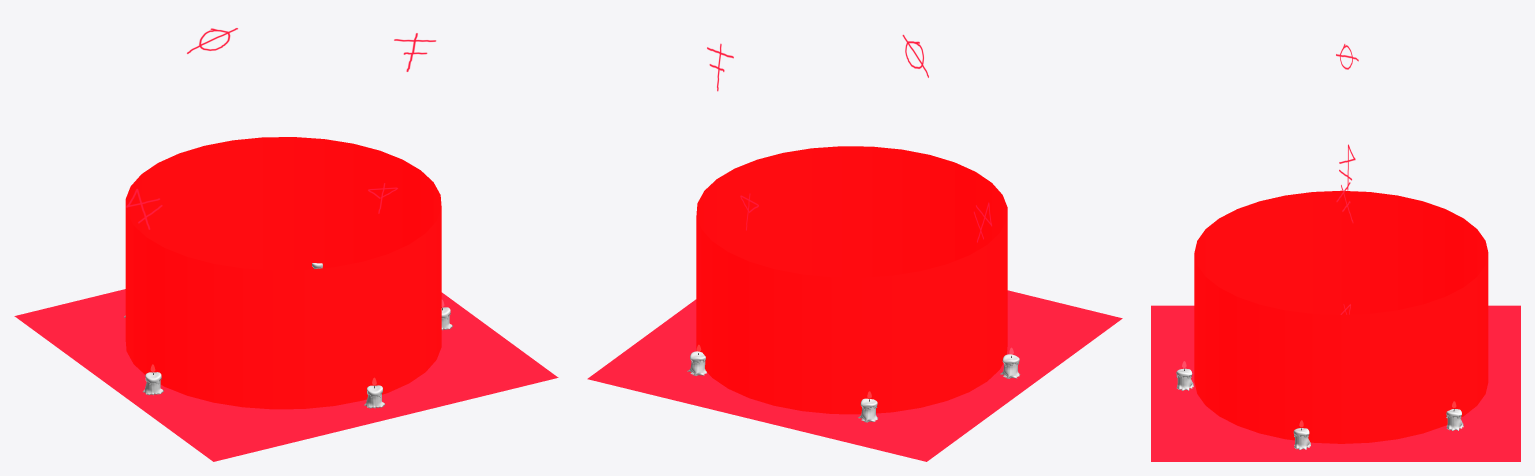
Rendered from ritual.glb.
The picture shows the model from 3 angles, left to right: view 1: azimuth 30°, elevation 25°; view 2: azimuth 150°, elevation 25°; view 3: azimuth 270°, elevation 25°; orthographic projection. The views are drawn at different scales.
Visible parts, largest first — view 1: Energy.Circle, Pentagram; view 2: Energy.Circle, Pentagram; view 3: Energy.Circle, Pentagram.
Part boxes in pixels (x1,y1,x2,y2): Energy.Circle: (125,137,441,409); Pentagram: (14,289,558,461); Energy.Circle: (696,146,1007,414); Pentagram: (587,290,1122,461); Energy.Circle: (1194,190,1488,443); Pentagram: (1151,305,1520,461).
Bounding box in the file's own units: 2.01 × 1.95 × 2.
6 materials, 2 textured.
